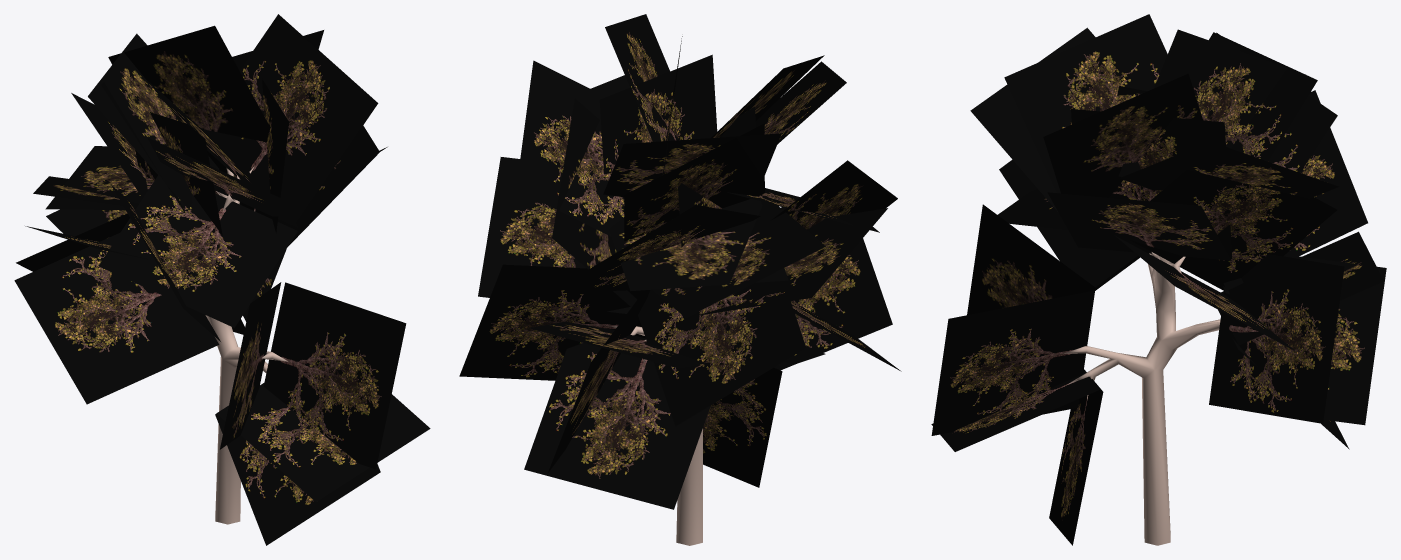
Rendered from tree4.glb.
3 views of the same model, side by side, from view 1: azimuth 30°, elevation 25°; view 2: azimuth 150°, elevation 25°; view 3: azimuth 270°, elevation 25° (orthographic). The views are drawn at different scales.
Size of the model in its own units: 5.37 by 7.06 by 5.74.
2 materials, 1 textured.
